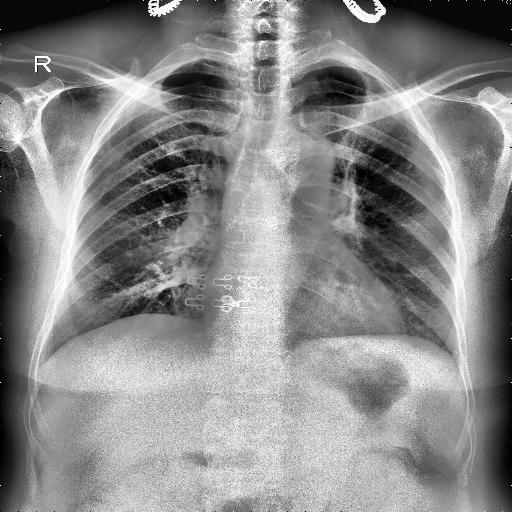0- Aortic enlargement: (262, 131, 334, 207), (260, 128, 330, 196), (268, 128, 334, 196)
